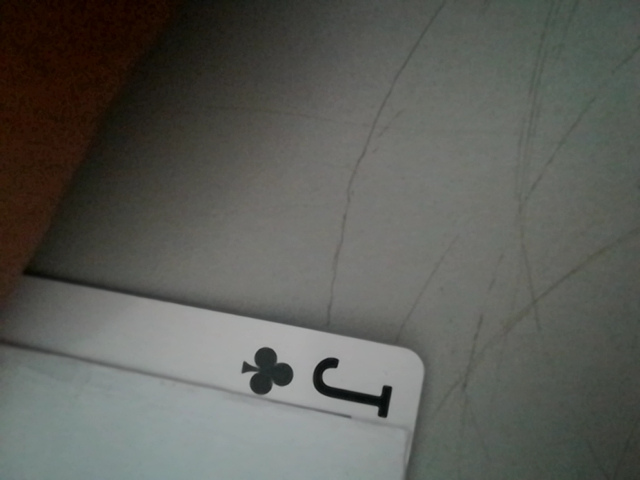mh j: (225, 340, 402, 421)
